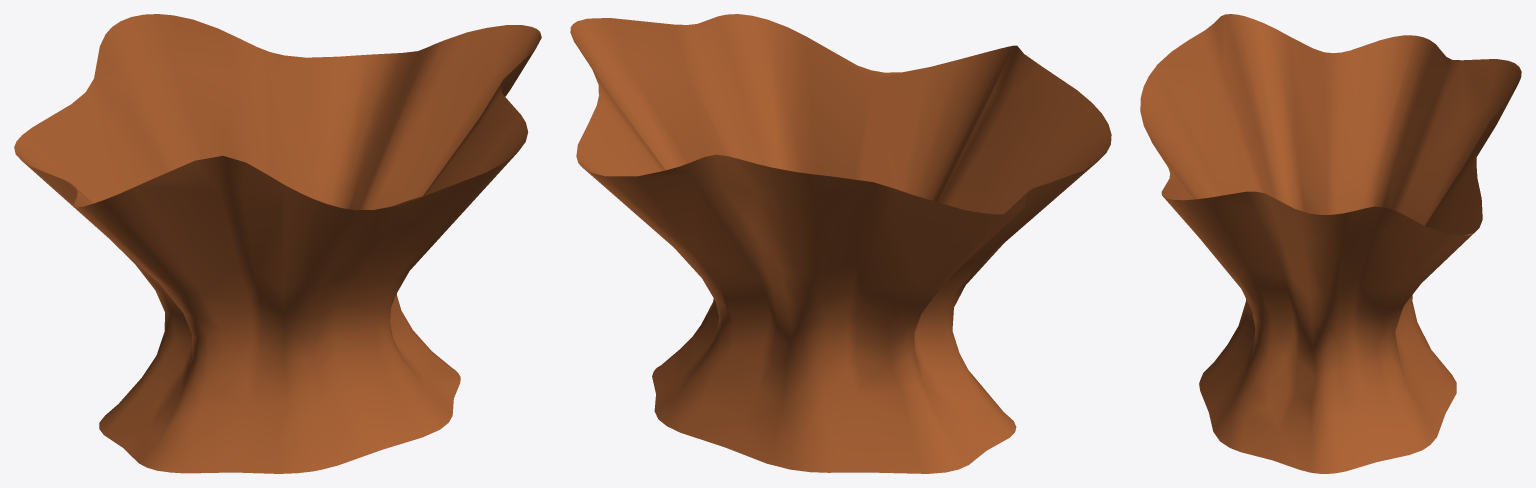
File: loot-bag-lining.fbx
3 renders of one model, left to right at view 1: azimuth 30°, elevation 25°; view 2: azimuth 150°, elevation 25°; view 3: azimuth 270°, elevation 25°, orthographic. The views are drawn at different scales.
Visible parts, largest first — view 1: Lining; view 2: Lining; view 3: Lining.
Part boxes in pixels (x1,y1,x2,y2): Lining: (14,14,541,473); Lining: (570,14,1111,473); Lining: (1140,14,1521,473).
Bounding box in the file's own units: 140 × 90.97 × 101.
